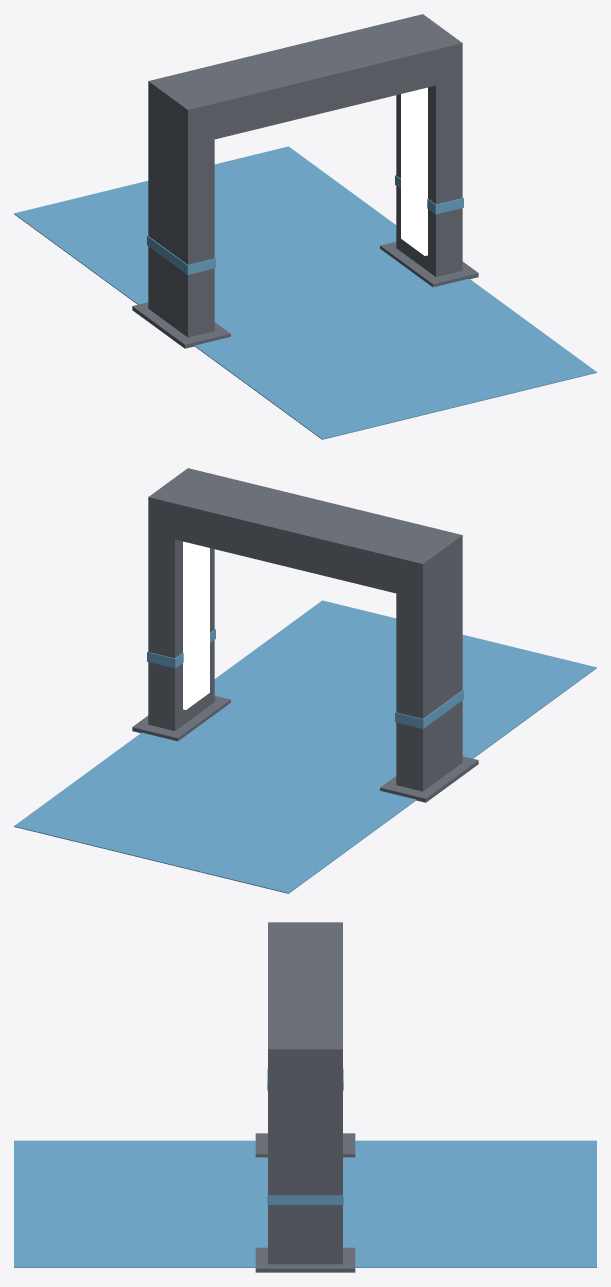
File: colibri.glb
The picture shows the model from 3 angles, top to bottom: view 1: azimuth 30°, elevation 25°; view 2: azimuth 150°, elevation 25°; view 3: azimuth 270°, elevation 25°; orthographic projection. The views are drawn at different scales.
Parts seen in each view (by area): view 1: p10, p8, p0, p4, p5, p3, p7, p2; view 2: p10, p8, p0, p4, p5, p3, p7, p2; view 3: p10, p4, p8, p7, p0, p6, p3.
Boxes of the visible parts, x1,y1,x2,y2 form: p10: (14,146,596,439); p8: (148,14,462,145); p0: (148,76,214,337); p4: (396,14,462,276); p5: (401,87,427,255); p3: (132,302,230,348); p7: (380,242,478,287); p2: (147,235,215,274); p10: (14,600,596,893); p8: (148,468,462,599); p0: (396,531,462,791); p4: (148,468,214,730); p5: (183,541,209,709); p3: (380,756,478,802); p7: (132,696,230,741); p2: (395,689,463,728); p10: (14,1140,596,1267); p4: (268,1037,342,1264); p8: (268,922,342,1083); p7: (255,1247,355,1272); p0: (268,922,342,934); p6: (267,1183,343,1204); p3: (255,1133,355,1157).
Bounding box in the file's own units: 3.85 × 2.9 × 7.
